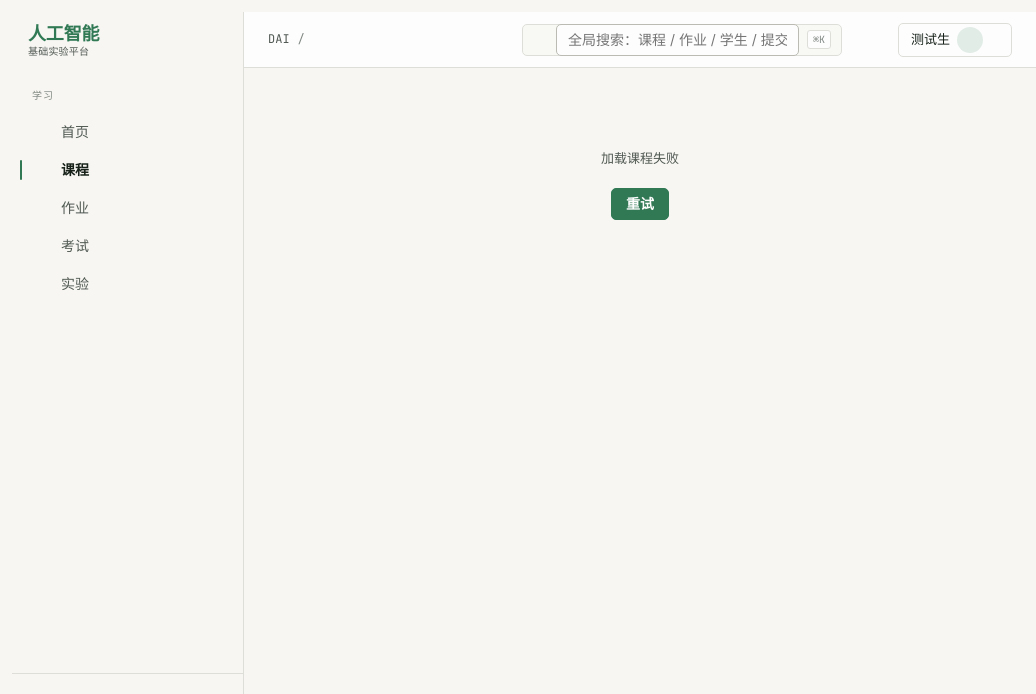
it: 课程概览 CourseDetailView（参考图 03） › 通用失败展示重试并保留恢复动作
What coordinates should you click on to do the following:
click the button with class "retry-btn"
I would click on:
 (640, 204)
Its box is [611, 188, 669, 220].
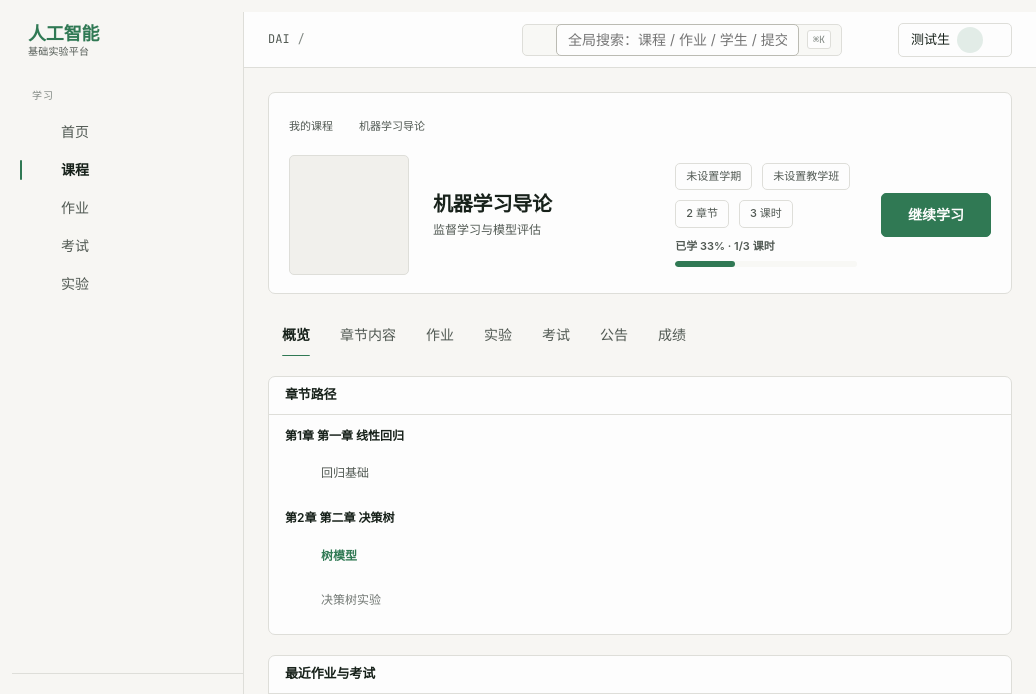
Now the text "机器学习导论" is shown, box [359, 118, 425, 136]
